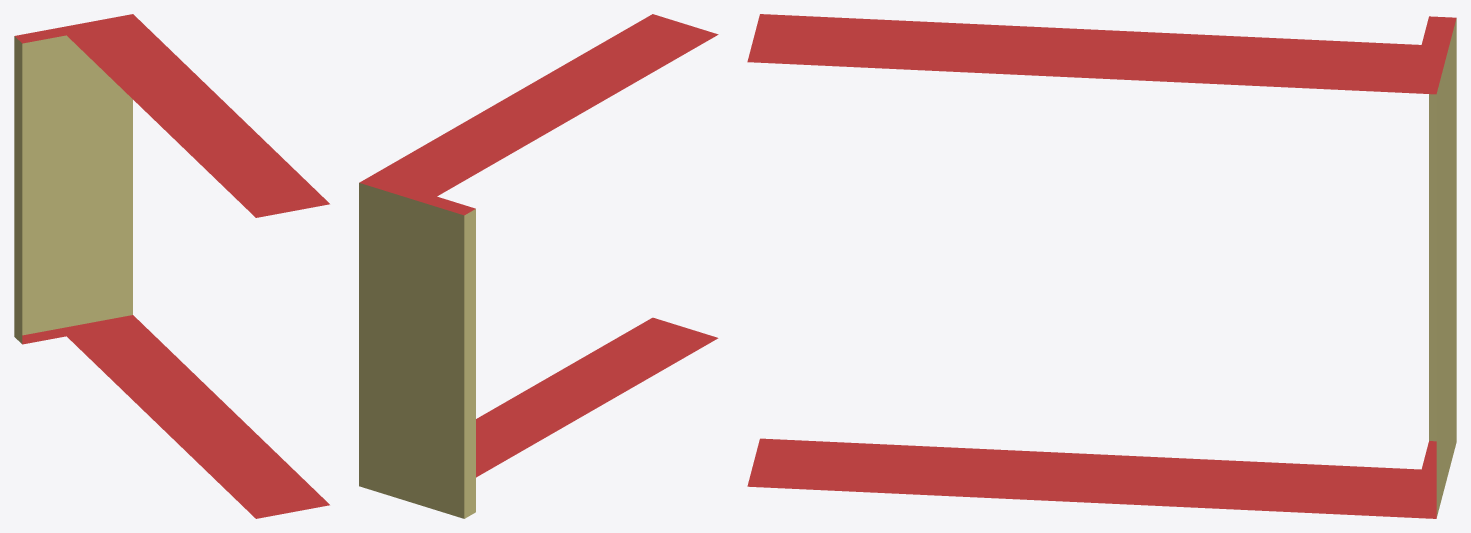
The picture shows the model from 3 angles, left to right: view 1: azimuth 30°, elevation 25°; view 2: azimuth 150°, elevation 25°; view 3: azimuth 270°, elevation 25°; orthographic projection. The views are drawn at different scales.
Size of the model in its own units: 3.44 by 12.82 by 8.46.
